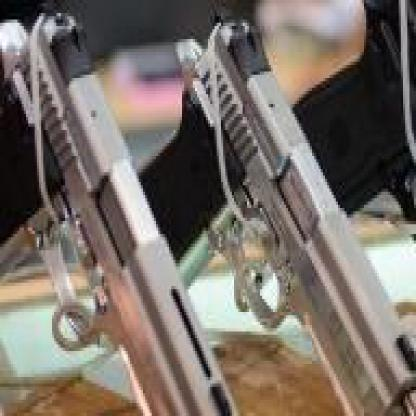gun: (138, 3, 414, 413), (0, 0, 243, 413), (290, 0, 414, 400)
